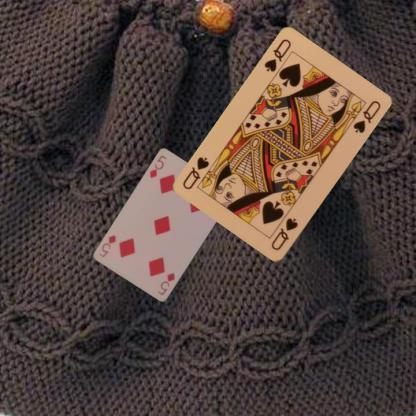5d: (147, 152, 168, 180), (155, 270, 176, 297)
Qs: (268, 215, 299, 252), (262, 36, 292, 74)
